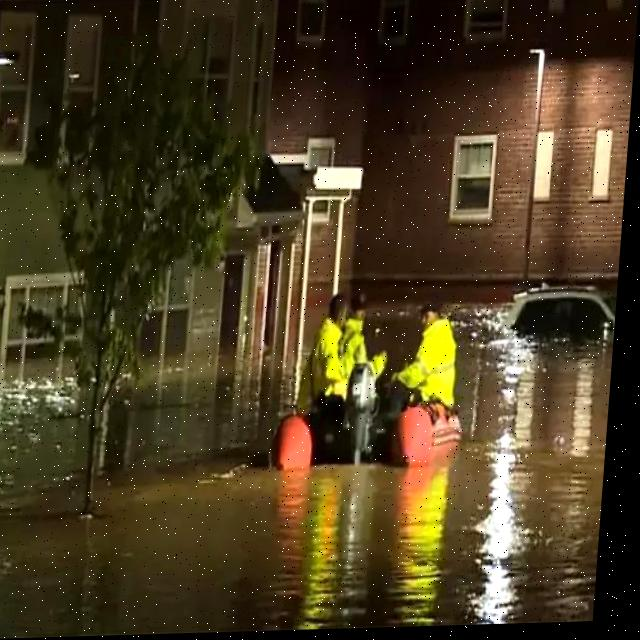rescuer: (380, 291, 484, 434), (289, 290, 361, 433), (334, 277, 400, 413)
